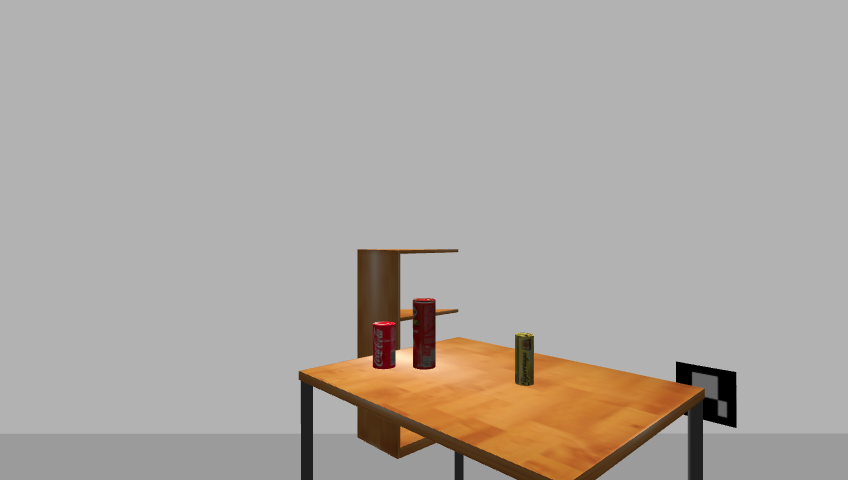aruco marker: (671, 360, 742, 429)
biscuits pack: (513, 333, 536, 387)
bookshelf: (354, 244, 461, 461)
coke can: (371, 321, 397, 370)
dinner table: (290, 338, 713, 479)
pringles can: (412, 298, 438, 372)
